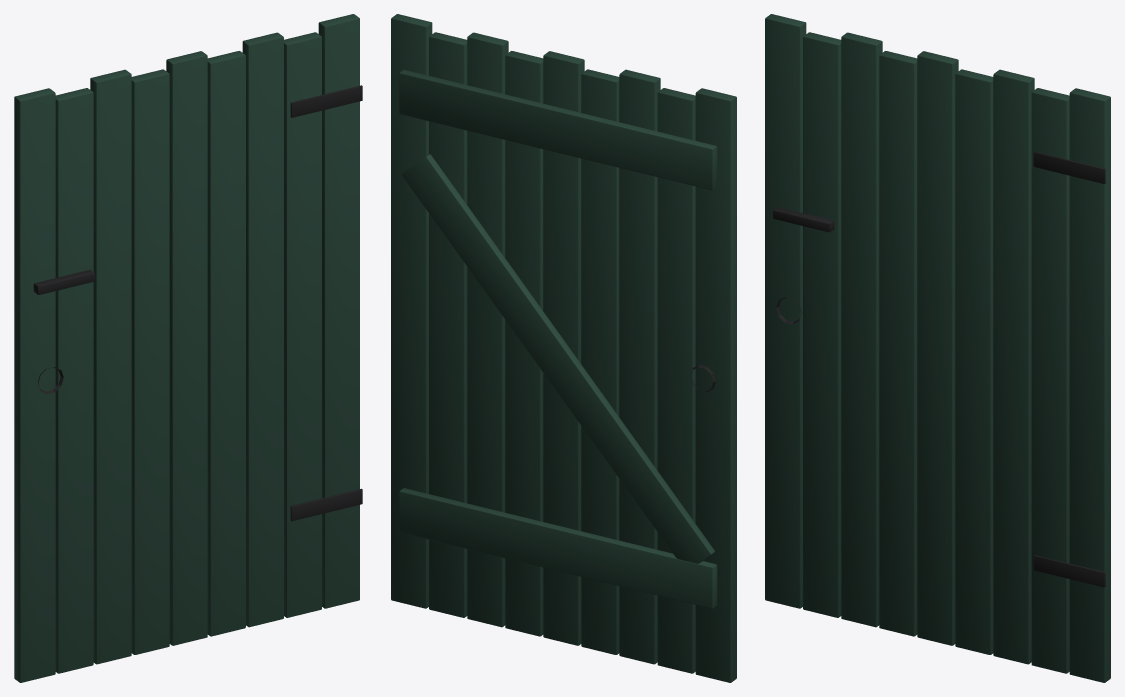
File: mae_gate.glb
3 views of the same model, side by side, from view 1: azimuth 30°, elevation 25°; view 2: azimuth 150°, elevation 25°; view 3: azimuth 330°, elevation 25° (orthographic).
Parts seen in each view (by area): view 1: mae_gate; view 2: mae_gate; view 3: mae_gate.
Boxes of the visible parts, <box> form: mae_gate: <box>14,14,362,682</box>; mae_gate: <box>391,14,736,682</box>; mae_gate: <box>765,14,1110,682</box>.
Size of the model in its own units: 1.2 by 1.95 by 0.1.
